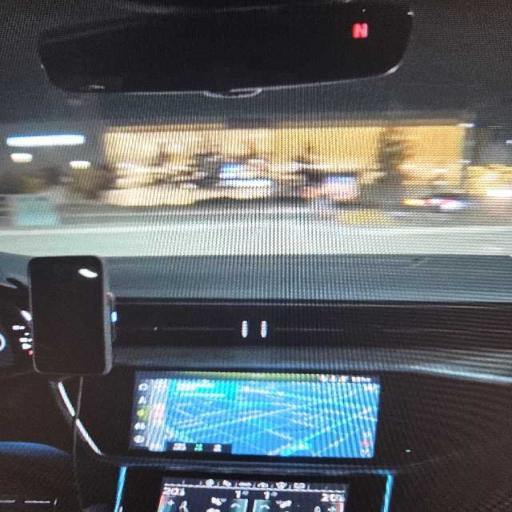car: (0, 0, 511, 511), (403, 193, 471, 211)
lane: (0, 218, 511, 256)
